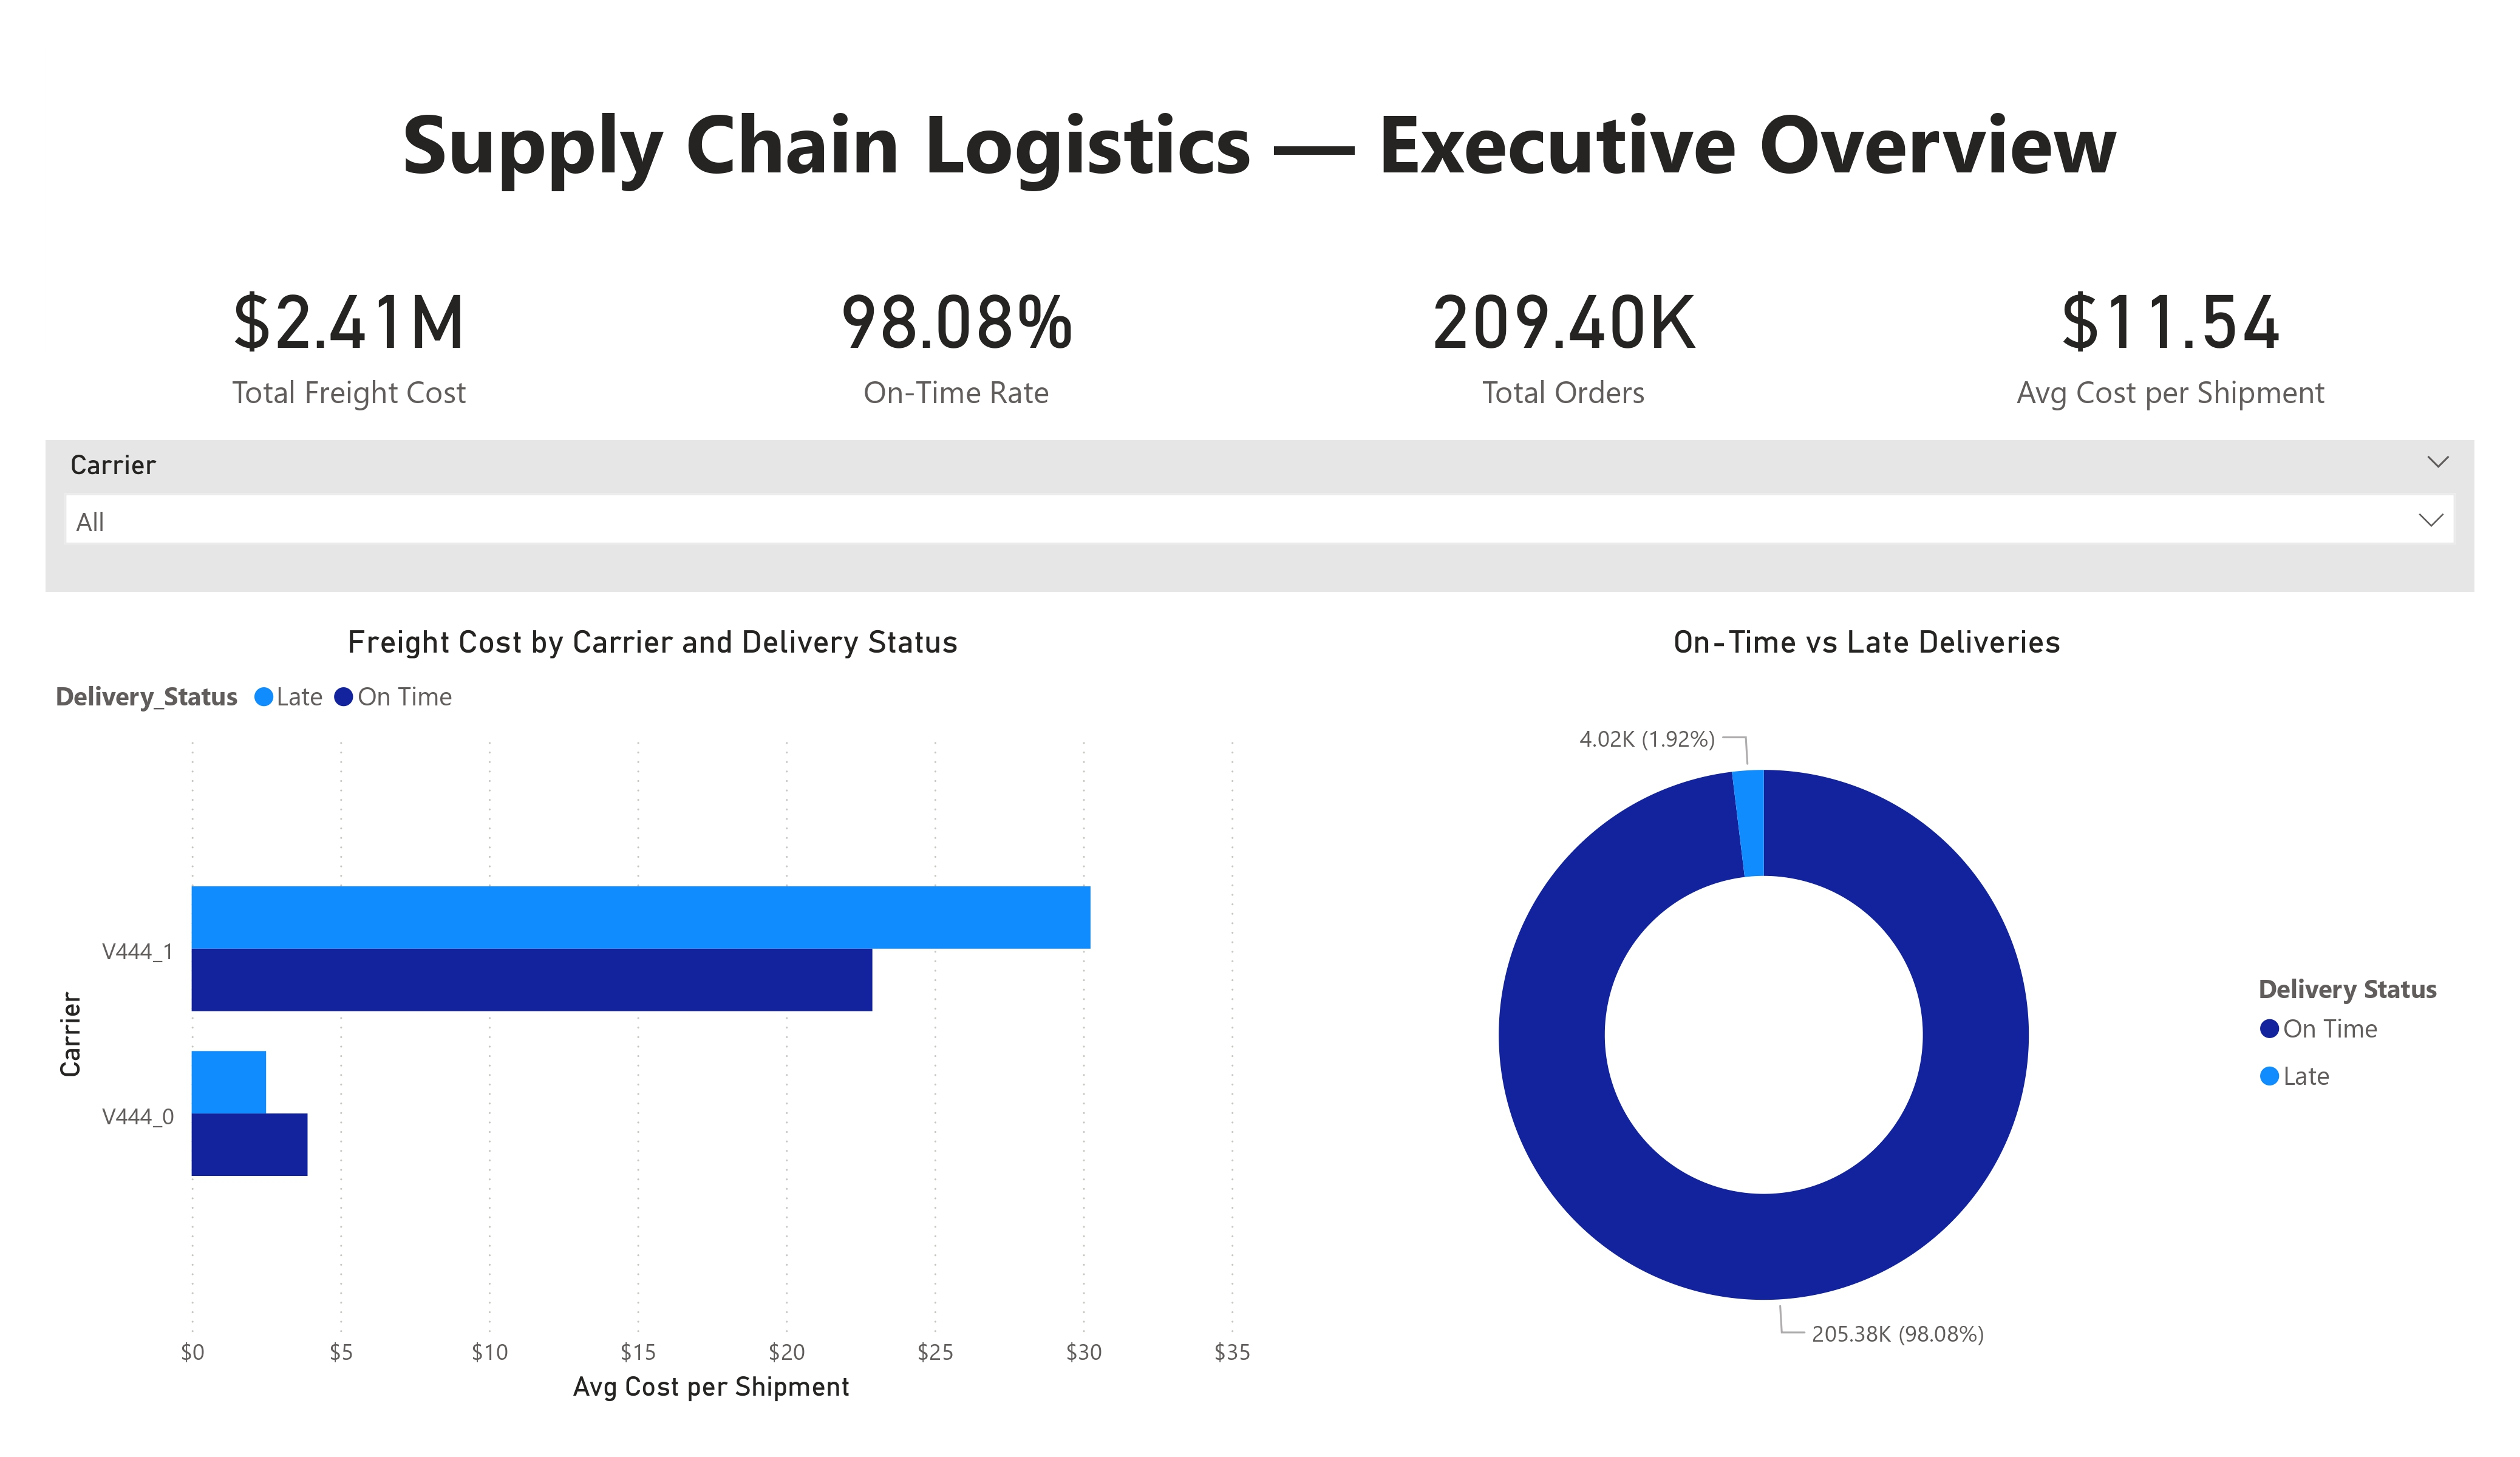

The dashboard page shown, as its layout file describes it:
{"tool":"powerbi","page":{"name":"Overview","canvas":[1280,720],"ordinal":0},"visuals":[{"type":"card","fields":{"Values":["Sum(OrderList6.Freight_Cost)"]},"box":[0,96,320,112],"z":0},{"type":"card","fields":{"Values":["Avg(OrderList6.Is_OnTime)"]},"box":[320,96,320,112],"z":1000},{"type":"card","fields":{"Values":["Avg(OrderList6.Freight_Cost)"]},"box":[960,96,320,112],"z":2000},{"type":"card","fields":{"Values":["CountNonNull(OrderList6.Order ID)"]},"box":[640,96,320,112],"z":3000},{"type":"textbox","box":[0,16,1280,80],"z":4000},{"type":"clusteredBarChart","title":"Freight Cost by Carrier and Delivery Status","fields":{"Category":["OrderList6.Carrier"],"Y":["Avg(OrderList6.Freight_Cost)"],"Series":["OrderList6.Delivery_Status"]},"box":[0,304,640,416],"z":5000},{"type":"slicer","fields":{"Values":["OrderList6.Carrier"]},"box":[0,208,1280,80],"z":6000},{"type":"donutChart","title":"On-Time vs Late Deliveries","fields":{"Category":["OrderList6.Delivery_Status"],"Y":["CountNonNull(OrderList6.Order ID)"]},"box":[640,304,640,416],"z":7000}]}

Visuals, with their boxes on the page's 1280x720 design canvas (x1, y1, x2, y2). These are canvas units, not pixel positions in the 2520x1457 screenshot, which may show the page scaled, cropped or inside an application window:
card - Sum(OrderList6.Freight_Cost): l=0, t=96, r=320, b=208
card - Avg(OrderList6.Is_OnTime): l=320, t=96, r=640, b=208
card - Avg(OrderList6.Freight_Cost): l=960, t=96, r=1280, b=208
card - CountNonNull(OrderList6.Order ID): l=640, t=96, r=960, b=208
textbox: l=0, t=16, r=1280, b=96
"Freight Cost by Carrier and Delivery Status" clusteredBarChart: l=0, t=304, r=640, b=720
slicer - OrderList6.Carrier: l=0, t=208, r=1280, b=288
"On-Time vs Late Deliveries" donutChart: l=640, t=304, r=1280, b=720
